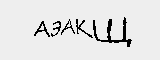А: (32, 17, 51, 39), (60, 18, 76, 37)
К: (75, 17, 93, 39)
Щ: (92, 17, 132, 48)
Э: (49, 17, 62, 38)
